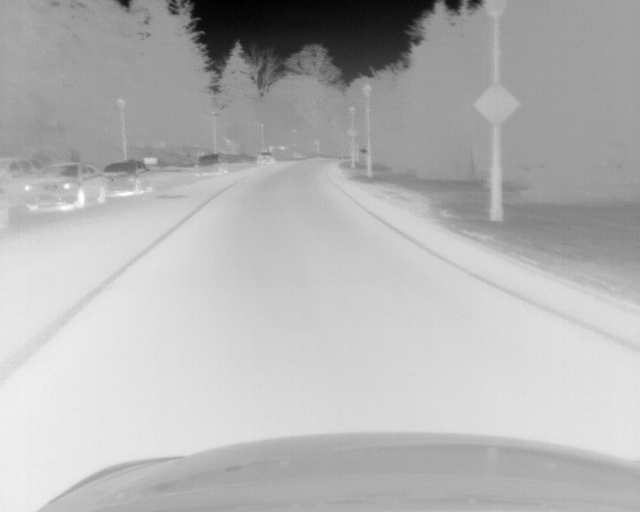car: (1, 157, 62, 225), (45, 161, 108, 208), (104, 157, 154, 196), (194, 153, 227, 176), (256, 151, 276, 164)
